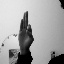f: (16, 10, 35, 48)
